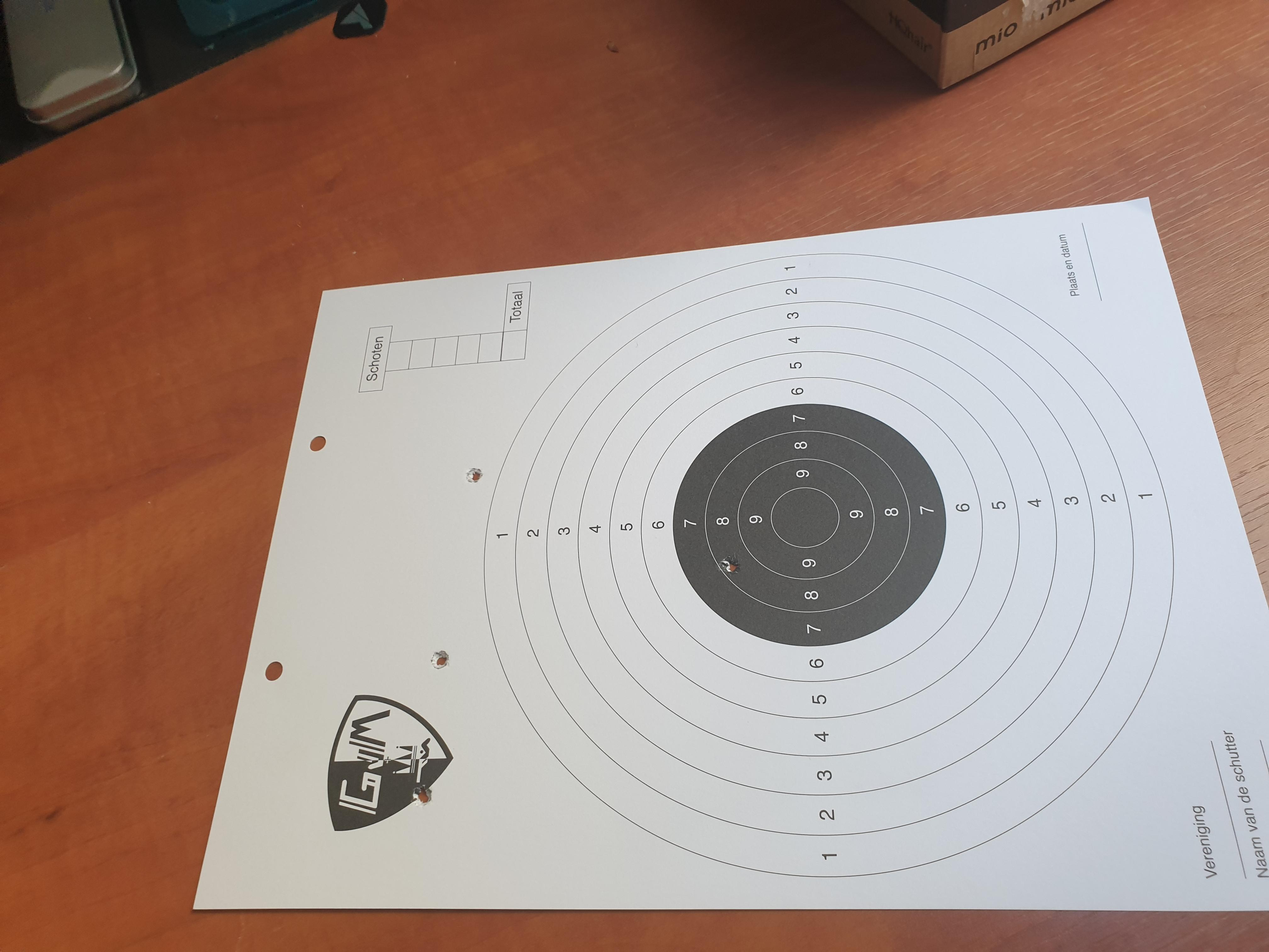hole: (191, 309, 225, 325), (503, 539, 530, 556), (375, 323, 402, 338), (624, 350, 646, 363)
